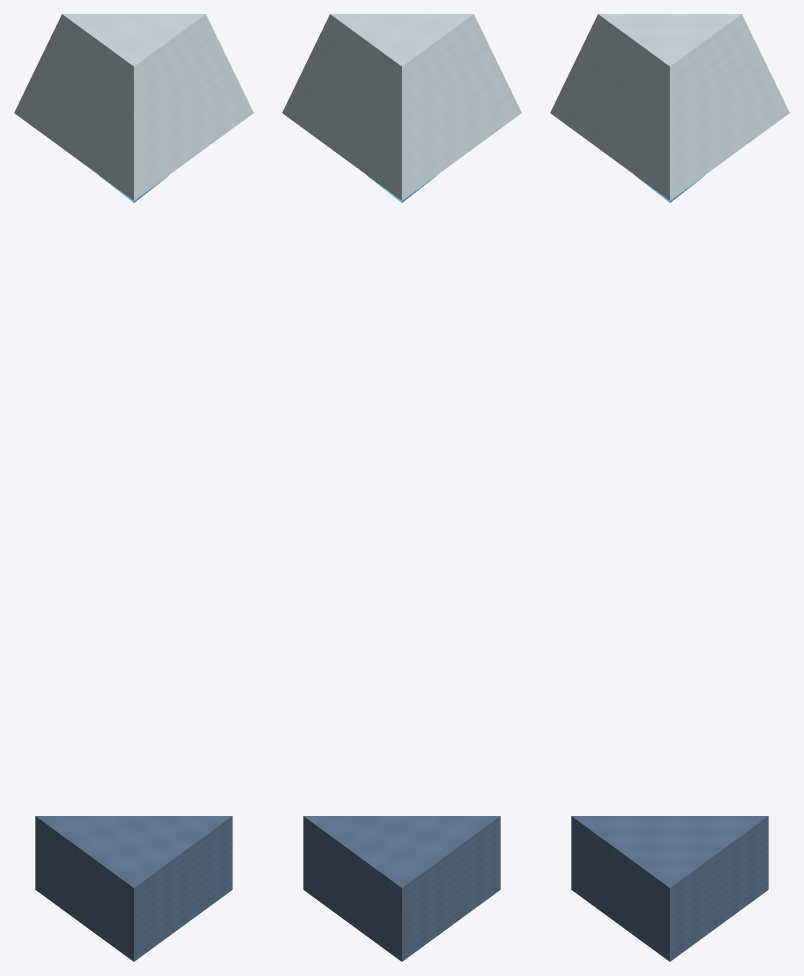
The model's file is atlas100-polar-util01.lod2.glb.
The picture shows the model from 3 angles, left to right: view 1: azimuth 30°, elevation 25°; view 2: azimuth 150°, elevation 25°; view 3: azimuth 270°, elevation 25°; orthographic projection.
Parts seen in each view (by area): view 1: atlas100-polar-util01:part-002, atlas100-polar-util01:part-000; view 2: atlas100-polar-util01:part-002, atlas100-polar-util01:part-000; view 3: atlas100-polar-util01:part-002, atlas100-polar-util01:part-000.
Part boxes in pixels (x1,y1,x2,y2): atlas100-polar-util01:part-002: [14, 14, 253, 200]; atlas100-polar-util01:part-000: [35, 816, 232, 961]; atlas100-polar-util01:part-002: [282, 14, 521, 200]; atlas100-polar-util01:part-000: [303, 816, 500, 961]; atlas100-polar-util01:part-002: [550, 14, 789, 200]; atlas100-polar-util01:part-000: [571, 816, 768, 961].
Size of the model in its own units: 0.5804 by 2.72 by 0.6702.
3 materials, 3 textured.
